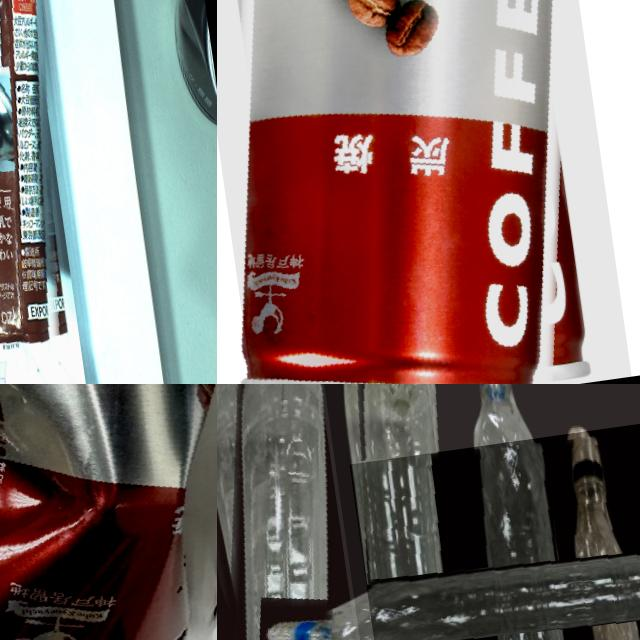Aluminium Foil: (0, 0, 102, 384)
Can: (217, 0, 631, 384), (0, 384, 217, 640)
Transparent Plastic Bottle: (349, 420, 640, 640), (217, 384, 398, 640), (321, 384, 497, 640), (556, 409, 640, 640)
